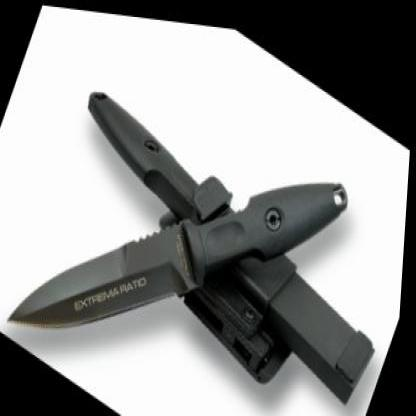knife: (1, 126, 219, 412)
